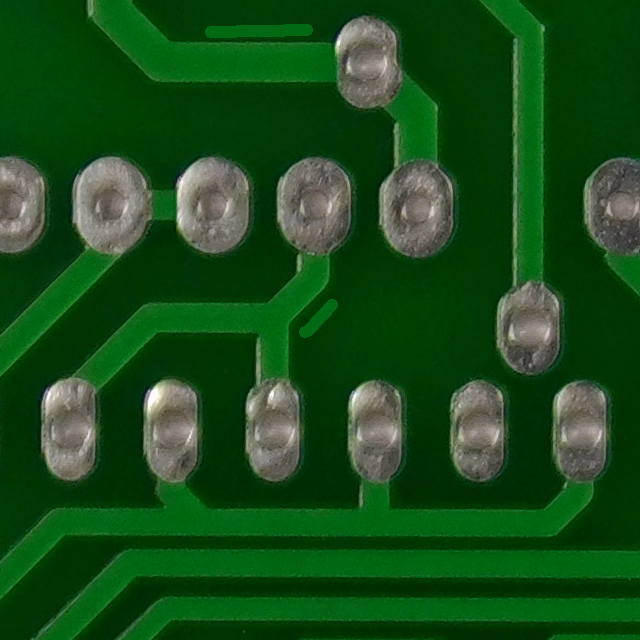spurious_copper: (195, 7, 321, 57), (289, 288, 351, 352)
